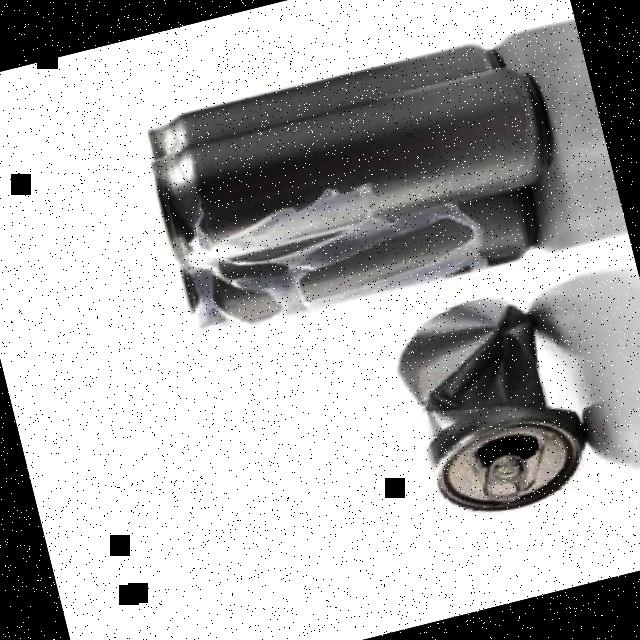can: (129, 51, 567, 284), (152, 166, 560, 354), (121, 13, 541, 185), (379, 275, 606, 530)
